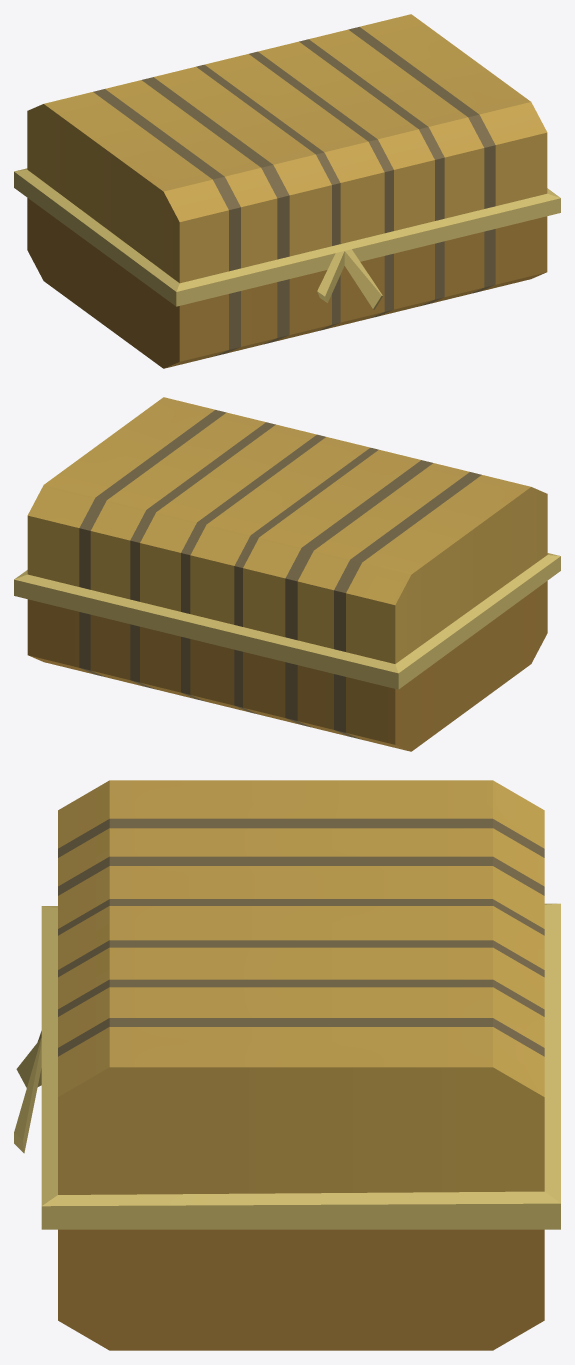
The model's file is SM_MarketBoxes_03.fbx.
The picture shows the model from 3 angles, top to bottom: view 1: azimuth 30°, elevation 25°; view 2: azimuth 150°, elevation 25°; view 3: azimuth 270°, elevation 25°; orthographic projection. The views are drawn at different scales.
Visible parts, largest first — view 1: Cube.058; view 2: Cube.058; view 3: Cube.058.
Part boxes in pixels (x1,y1,x2,y2): Cube.058: (14,14,560,368); Cube.058: (14,397,560,751); Cube.058: (14,780,560,1350).
Size of the model in its own units: 112 by 49.26 by 86.17.
